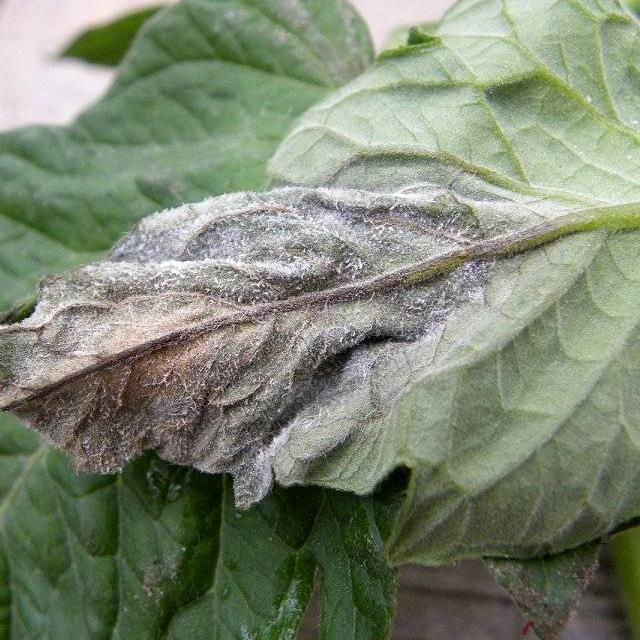Tomato leaf late blight: (0, 0, 640, 568)
